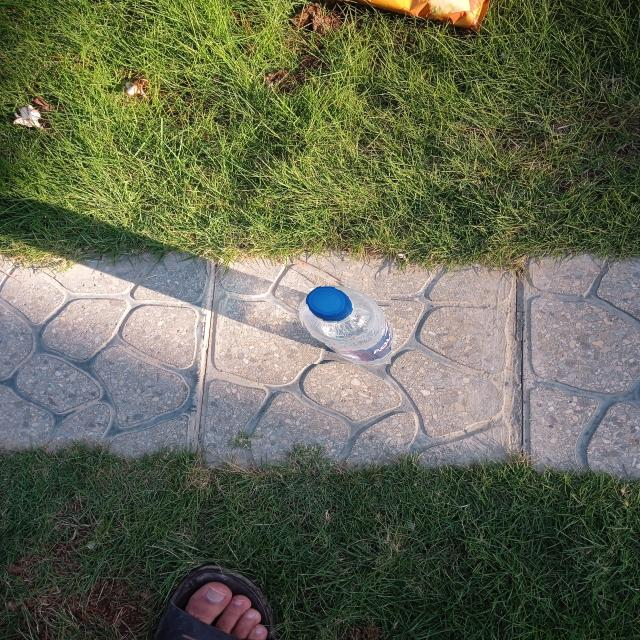Plastic: (300, 278, 391, 364)
